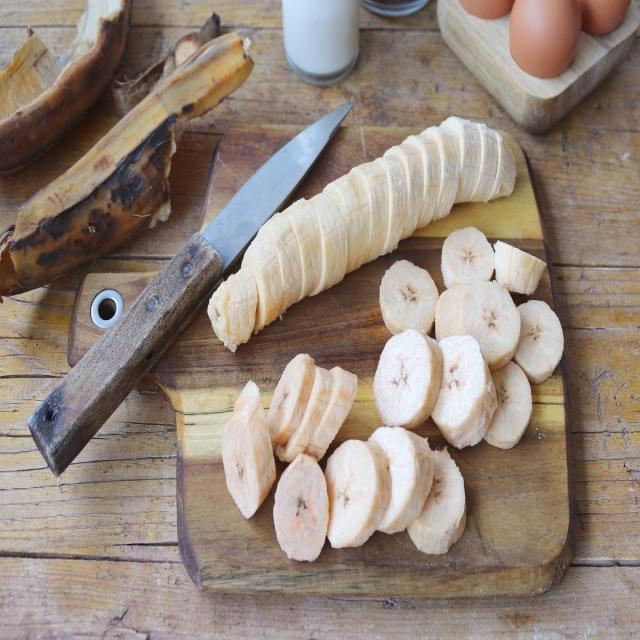platano: (221, 356, 498, 564)
